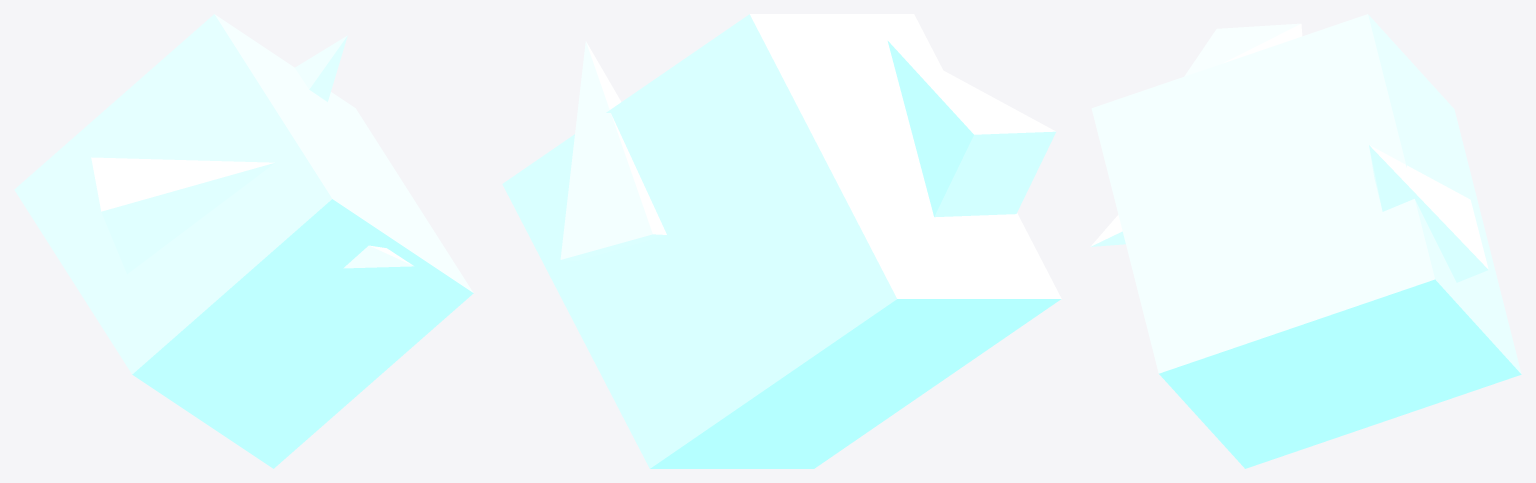
File: ice.glb
3 renders of one model, left to right at view 1: azimuth 30°, elevation 25°; view 2: azimuth 150°, elevation 25°; view 3: azimuth 270°, elevation 25°, orthographic. The views are drawn at different scales.
Visible parts, largest first — view 1: PangIceBody; view 2: PangIceBody; view 3: PangIceBody.
Part boxes in pixels (x1,y1,x2,y2): PangIceBody: (14, 14, 473, 468); PangIceBody: (502, 14, 1061, 468); PangIceBody: (1090, 14, 1521, 468).
Size of the model in its own units: 0.9329 by 1.04 by 0.8995.
